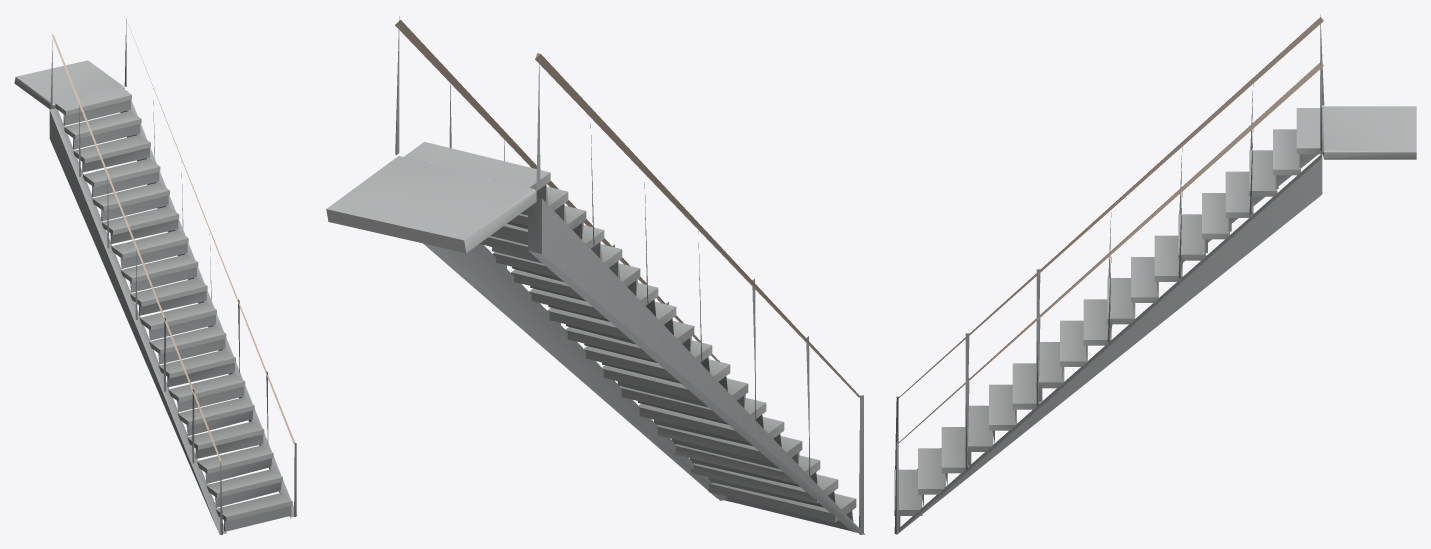
The model's file is stair.lod1.glb.
The picture shows the model from 3 angles, left to right: view 1: azimuth 30°, elevation 25°; view 2: azimuth 150°, elevation 25°; view 3: azimuth 270°, elevation 25°; orthographic projection. The views are drawn at different scales.
Bounding box in the file's own units: 1.06 × 4.92 × 4.9.
